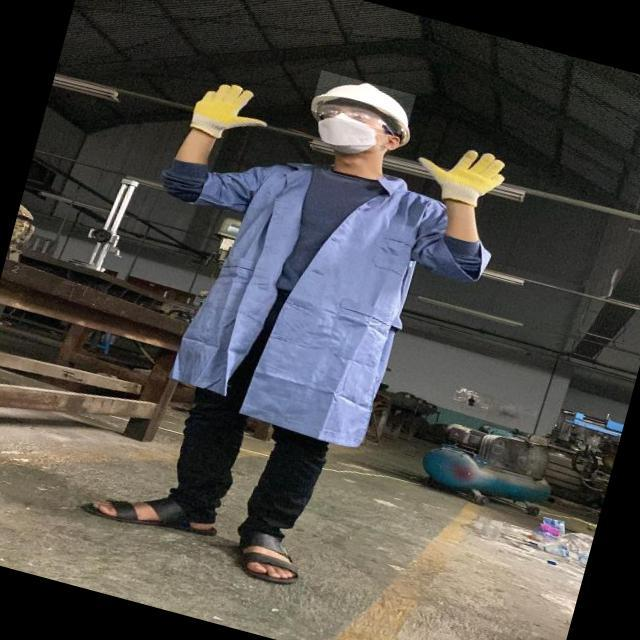Gloves: (179, 72, 274, 144), (413, 145, 509, 215)
Helmet: (310, 70, 416, 136)
Person: (72, 50, 514, 600)
Safety Boot: (83, 485, 314, 589)
no-vest: (148, 156, 498, 454)
